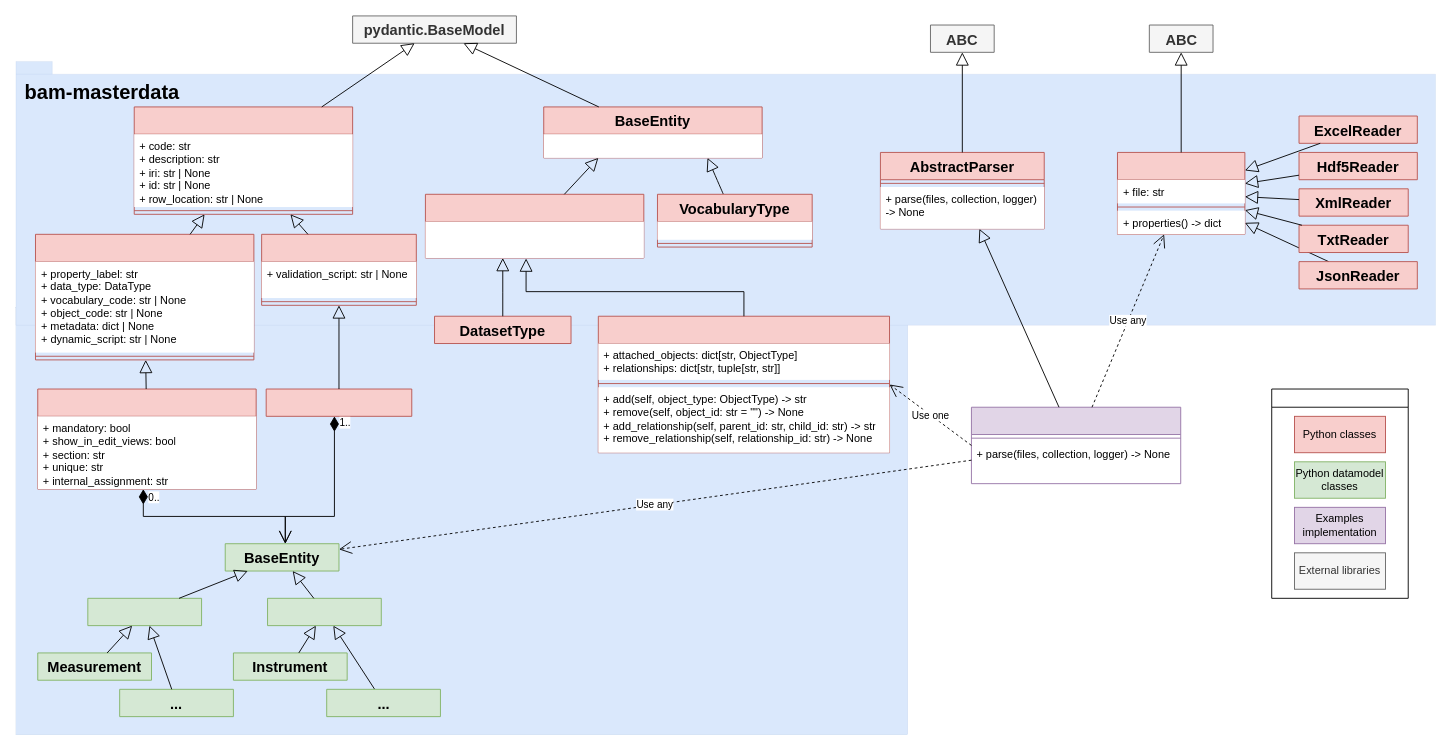
The diagram is 1451 pixels wide and 751 high, and some of its shapes have lost their labels. The shapes that lost their labels are listed below. From the top down, each one's box as (x1, y1, x2, y2) in pixels, then its label:
(133, 106, 353, 214): EntityDef
(543, 134, 762, 157): - _property_metadata: dict
(1117, 152, 1245, 234): AbstractReader
(425, 221, 643, 258): - _properties: dict + properties: list[PropertyTypeAssignment]
(425, 193, 644, 258): ObjectType
(657, 221, 812, 239): + terms: list[VocabularyTerm]
(261, 233, 416, 305): BaseObjectTypeDef
(35, 233, 254, 360): PropertyTypeDef
(265, 388, 412, 416): ObjectTypeDef
(597, 315, 890, 453): CollectionType
(37, 388, 256, 489): PropertyTypeAssignment
(971, 406, 1181, 484): MasterdataExampleParser
(1271, 388, 1408, 598): legend
(87, 597, 202, 626): Activity
(267, 597, 381, 626): Entity
